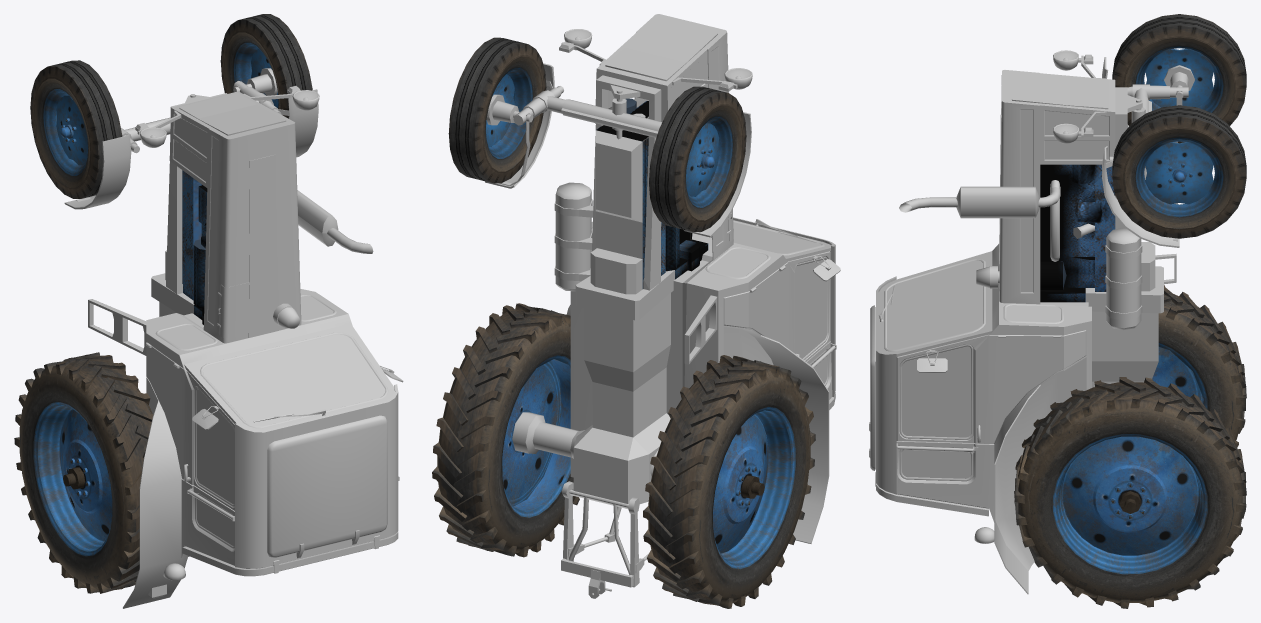
The model's file is tractor.fbx.
The picture shows the model from 3 angles, left to right: view 1: azimuth 30°, elevation 25°; view 2: azimuth 150°, elevation 25°; view 3: azimuth 270°, elevation 25°; orthographic projection. The views are drawn at different scales.
Parts seen in each view (by area): view 1: body.001, capot, whl4.001, whl4.002, door_l, whl2.001, whl1.001, chassis, motor.001, whl2.002, motor.002, wing_l (+5 smaller); view 2: chassis, whl4.001, whl3.001, body.001, whl4.002, capot, whl2.001, whl1.001, door_l, whl3.002, motor.002, gear (+10 smaller); view 3: body.001, whl3.001, whl3.002, door_r, capot, whl1.001, motor.001, chassis, whl4.001, whl2.001, whl1.002, motor.002 (+7 smaller).
Part boxes in pixels (x1,y1,x2,y2): body.001: (123, 289, 399, 608); capot: (169, 91, 301, 343); whl4.001: (14, 352, 153, 593); whl4.002: (33, 402, 112, 556); door_l: (146, 342, 234, 510); whl2.001: (30, 60, 122, 198); whl1.001: (220, 14, 312, 118); chassis: (151, 93, 227, 316); motor.001: (182, 170, 207, 324); whl2.002: (43, 89, 88, 175); motor.002: (273, 190, 373, 328); wing_l: (64, 128, 139, 209); chassis: (512, 75, 674, 503); whl4.001: (643, 355, 815, 608); whl3.001: (432, 303, 579, 557); body.001: (566, 217, 836, 543); whl4.002: (713, 407, 795, 568); capot: (595, 14, 733, 260); whl2.001: (649, 86, 746, 231); whl1.001: (448, 37, 546, 183); door_l: (723, 251, 840, 361); whl3.002: (502, 355, 570, 517); motor.002: (595, 99, 648, 258); gear: (561, 481, 648, 598); body.001: (869, 244, 1091, 594); whl3.001: (1014, 377, 1246, 608); whl3.002: (1053, 434, 1207, 574); door_r: (896, 330, 1086, 443); capot: (999, 70, 1115, 304); whl1.001: (1112, 105, 1246, 238); motor.001: (1040, 164, 1115, 302); chassis: (1085, 87, 1163, 387); whl4.001: (1158, 285, 1246, 447); whl2.001: (1112, 14, 1246, 143); whl1.002: (1135, 137, 1223, 217); motor.002: (899, 168, 1146, 288).
Bounding box in the file's own units: 69.15 × 126 × 87.9.
